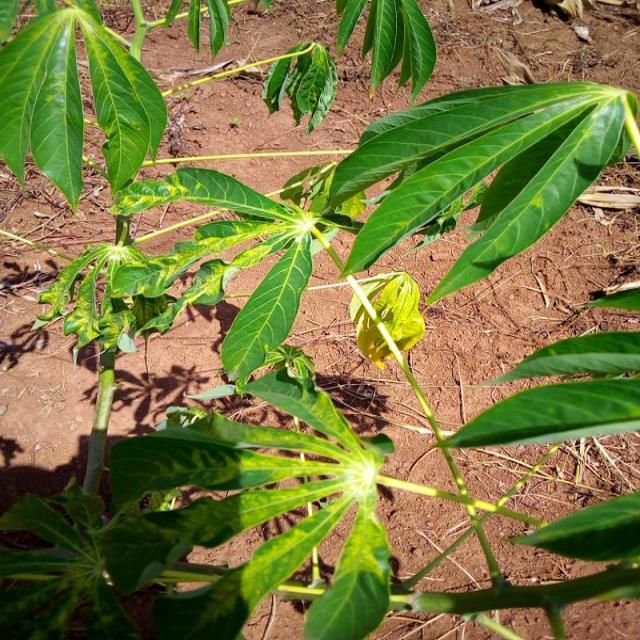cassava leaf: (326, 79, 638, 305), (0, 0, 167, 212), (437, 374, 639, 449), (219, 228, 313, 384)
